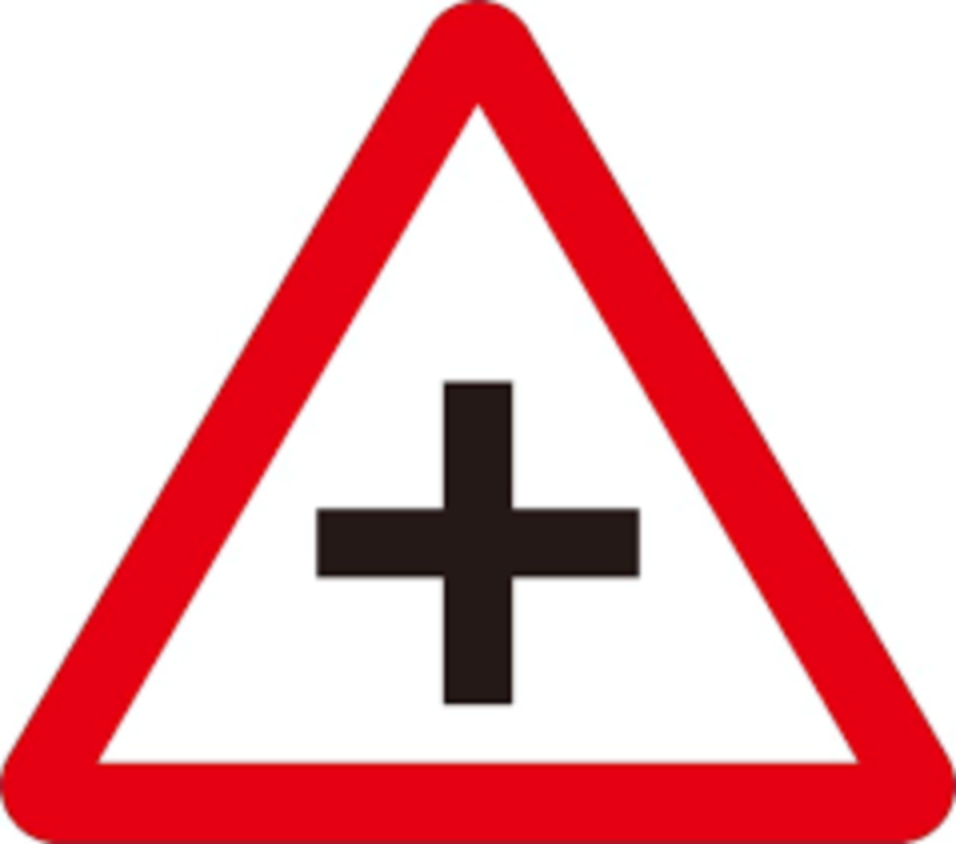Fork_road: (7, 1, 956, 843)
